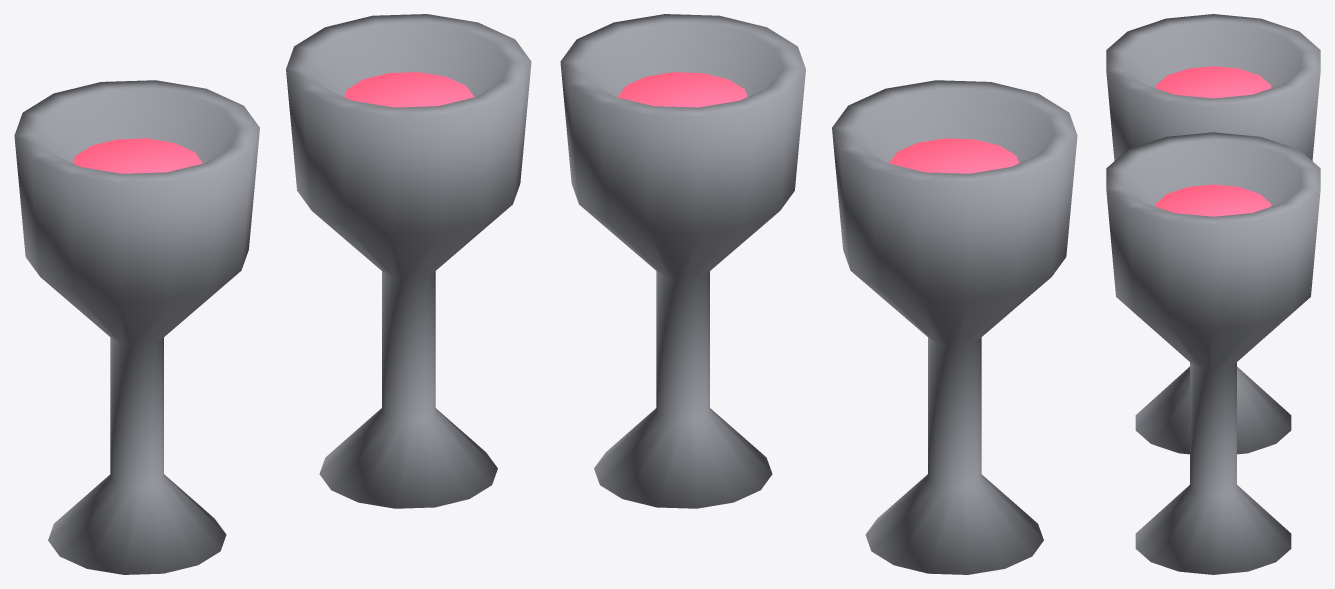
File: chalice_wine_pair.glb
3 views of the same model, side by side, from view 1: azimuth 30°, elevation 25°; view 2: azimuth 150°, elevation 25°; view 3: azimuth 270°, elevation 25° (orthographic). The views are drawn at different scales.
Visible parts, largest first — view 1: GD_chalice_wine_pair__m0, GD_chalice_wine_pair__m1; view 2: GD_chalice_wine_pair__m0, GD_chalice_wine_pair__m1; view 3: GD_chalice_wine_pair__m0, GD_chalice_wine_pair__m1.
Part boxes in pixels (x1=…): GD_chalice_wine_pair__m0: x1=14, y1=14, x2=531, y2=574; GD_chalice_wine_pair__m1: x1=73, y1=72, x2=474, y2=173; GD_chalice_wine_pair__m0: x1=560, y1=14, x2=1077, y2=574; GD_chalice_wine_pair__m1: x1=617, y1=72, x2=1018, y2=173; GD_chalice_wine_pair__m0: x1=1106, y1=14, x2=1320, y2=574; GD_chalice_wine_pair__m1: x1=1155, y1=66, x2=1271, y2=216.
Size of the model in its own units: 0.25 by 0.2 by 0.1072.
